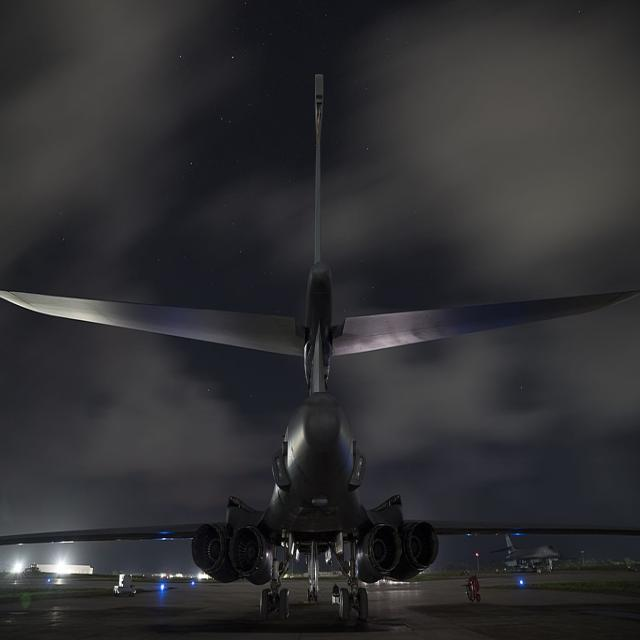MIL_Plane: (0, 72, 640, 618), (489, 534, 581, 573)
